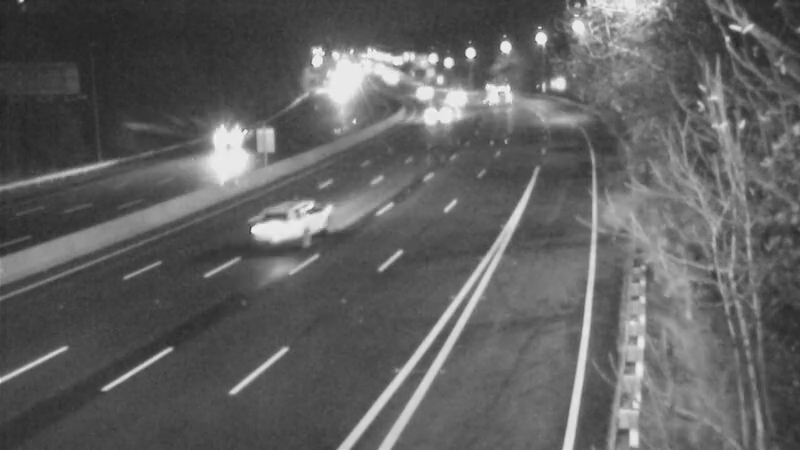vehicle: (230, 185, 310, 265), (368, 54, 418, 104), (468, 70, 518, 120), (398, 68, 448, 118), (429, 68, 479, 118), (417, 90, 467, 140), (197, 118, 247, 168), (313, 68, 363, 118)
